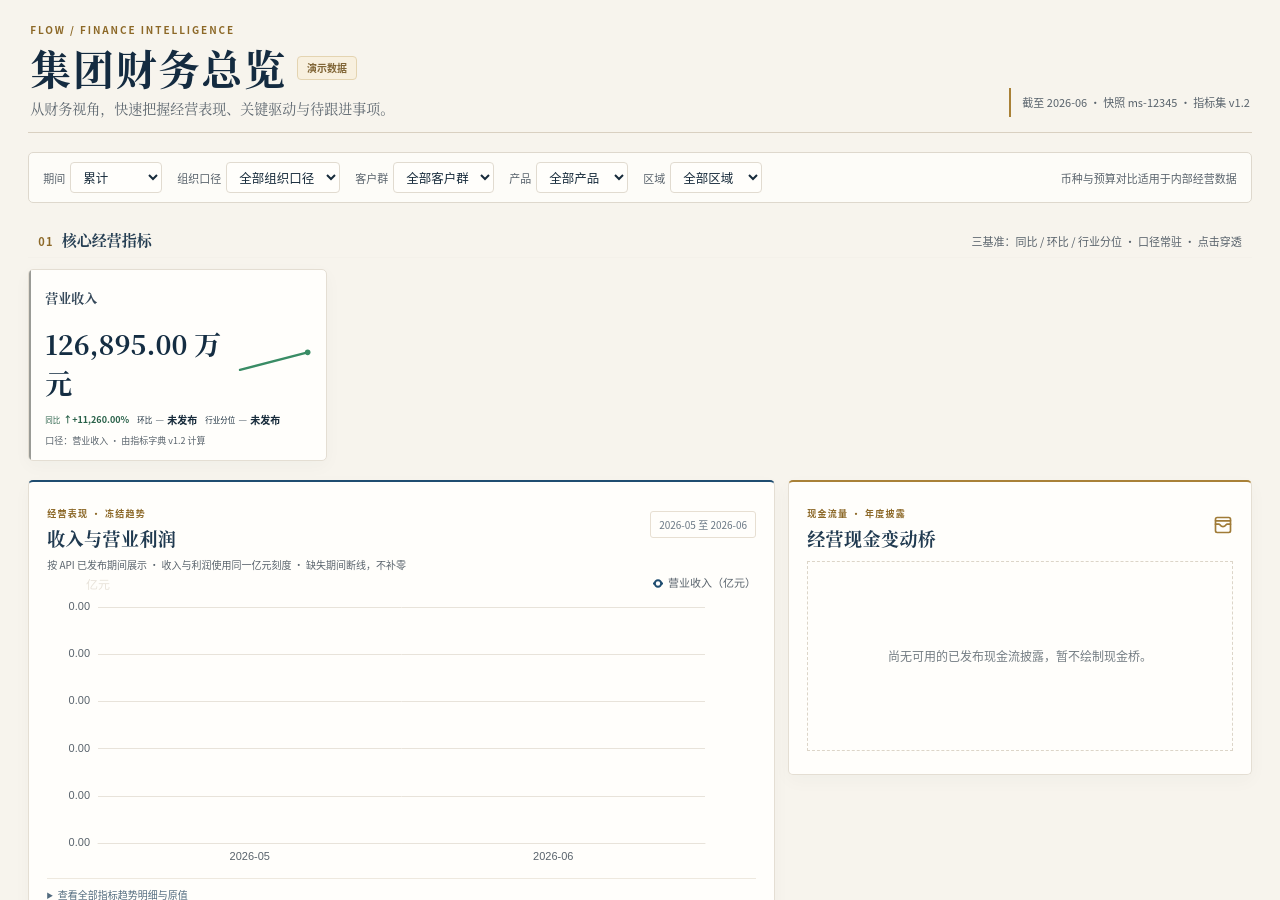
CockpitOverviewApp › Esc 关闭穿透抽屉
Click the button "营业收入" at (177, 365), box [29, 270, 326, 460]
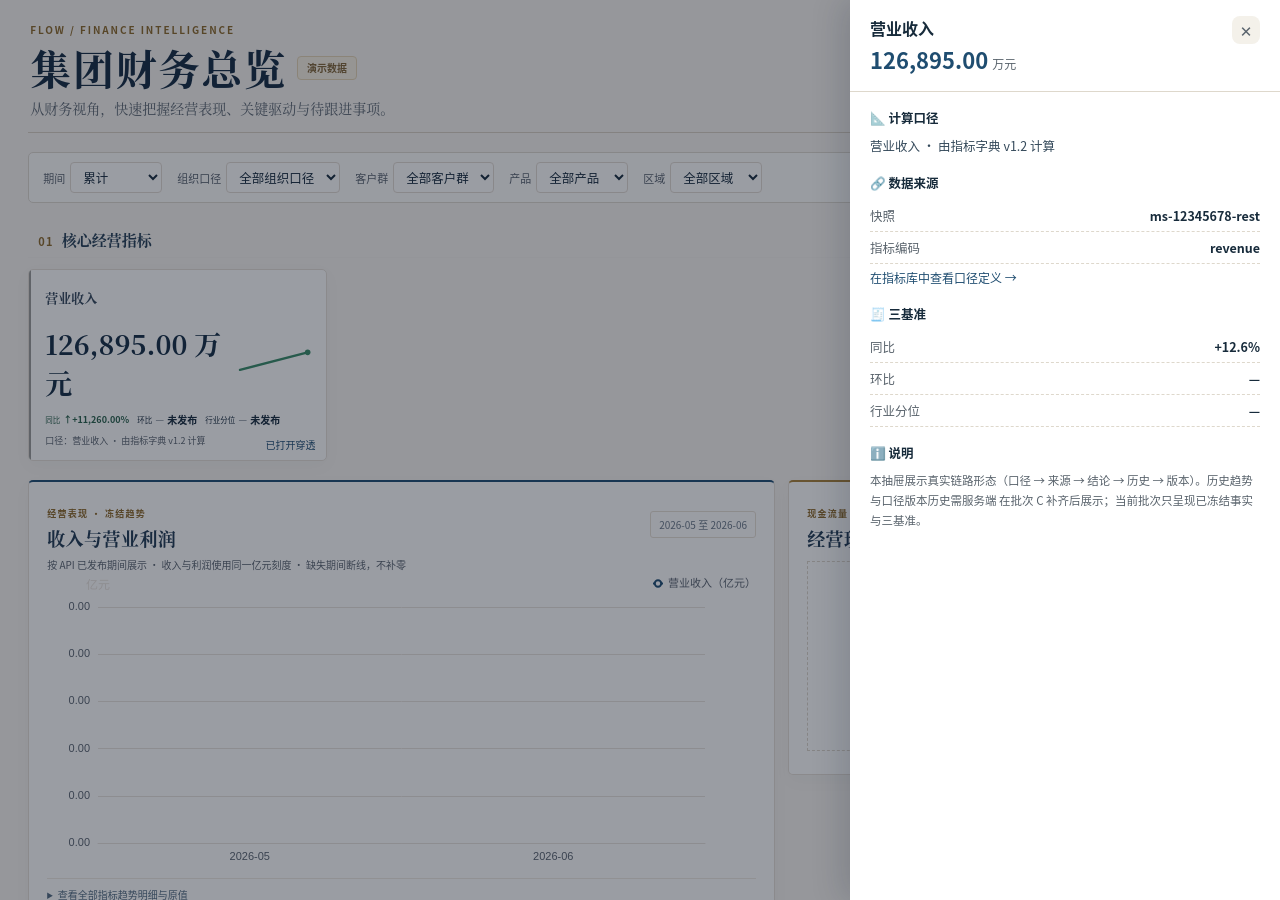
Expected: the dialog with test id "cockpit-drill" is shown, [850, 0, 1279, 899]
Press Escape
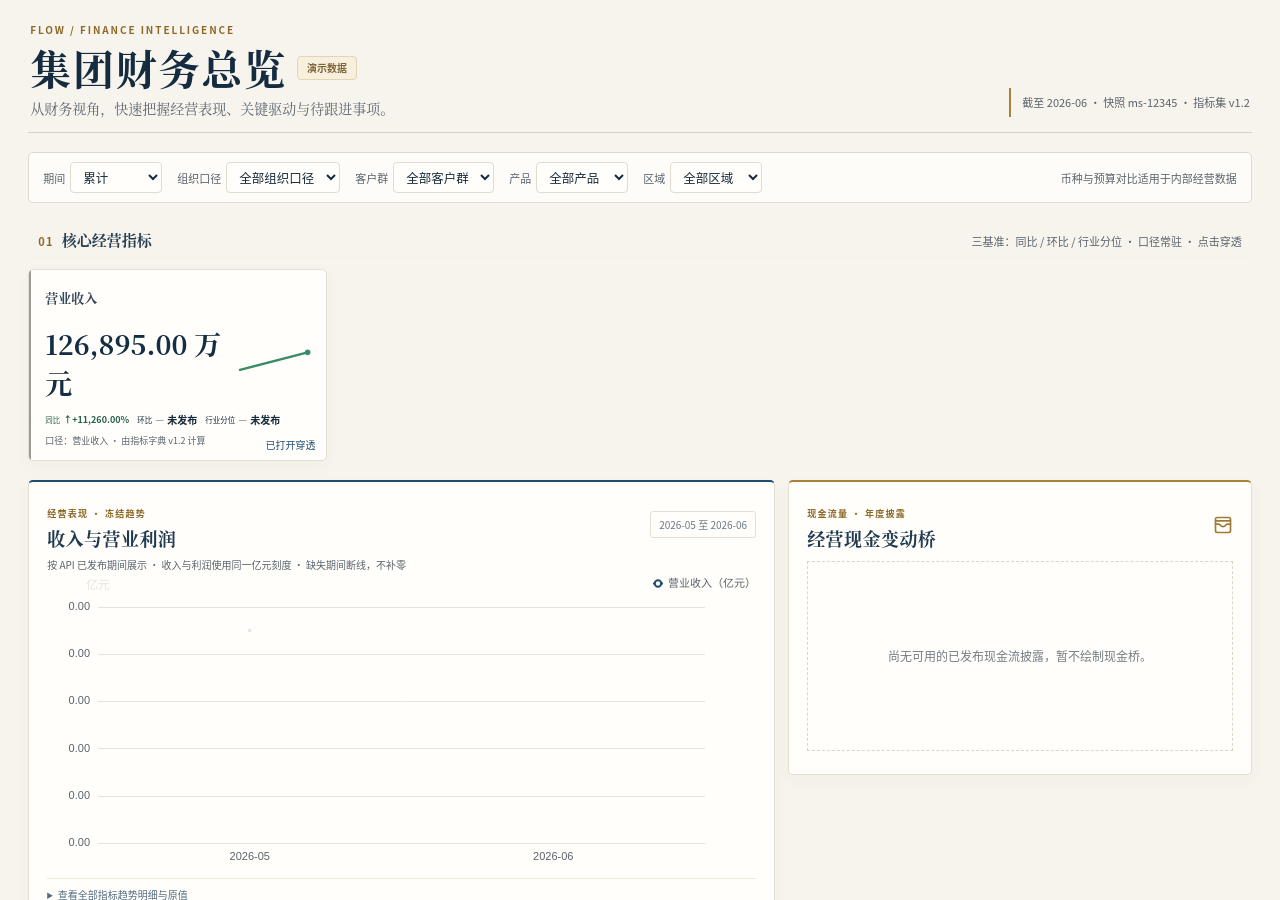
Expected: the dialog with test id "cockpit-drill" is gone
